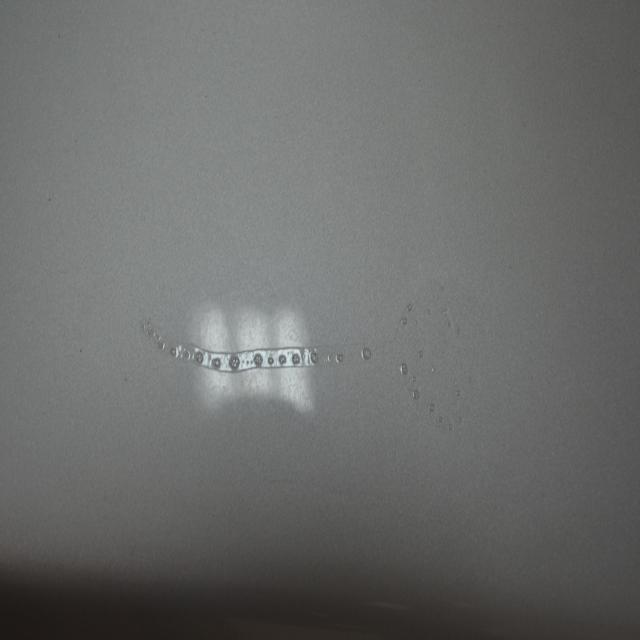runs: (133, 271, 496, 428)
